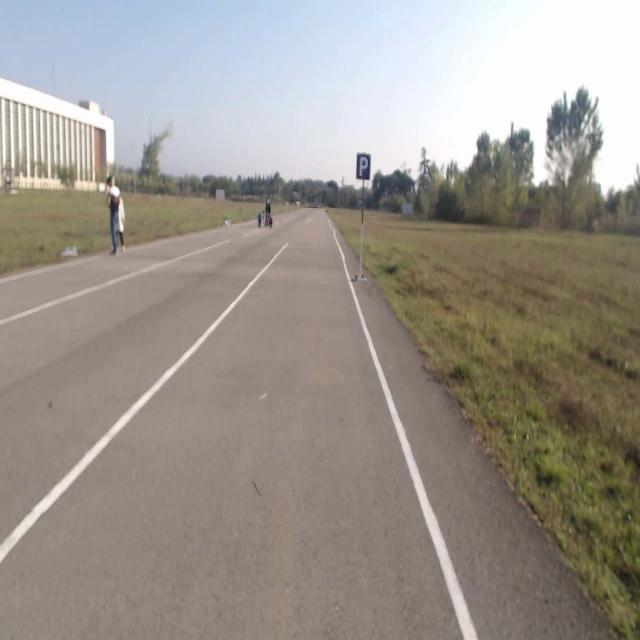park: (356, 153, 369, 179)
